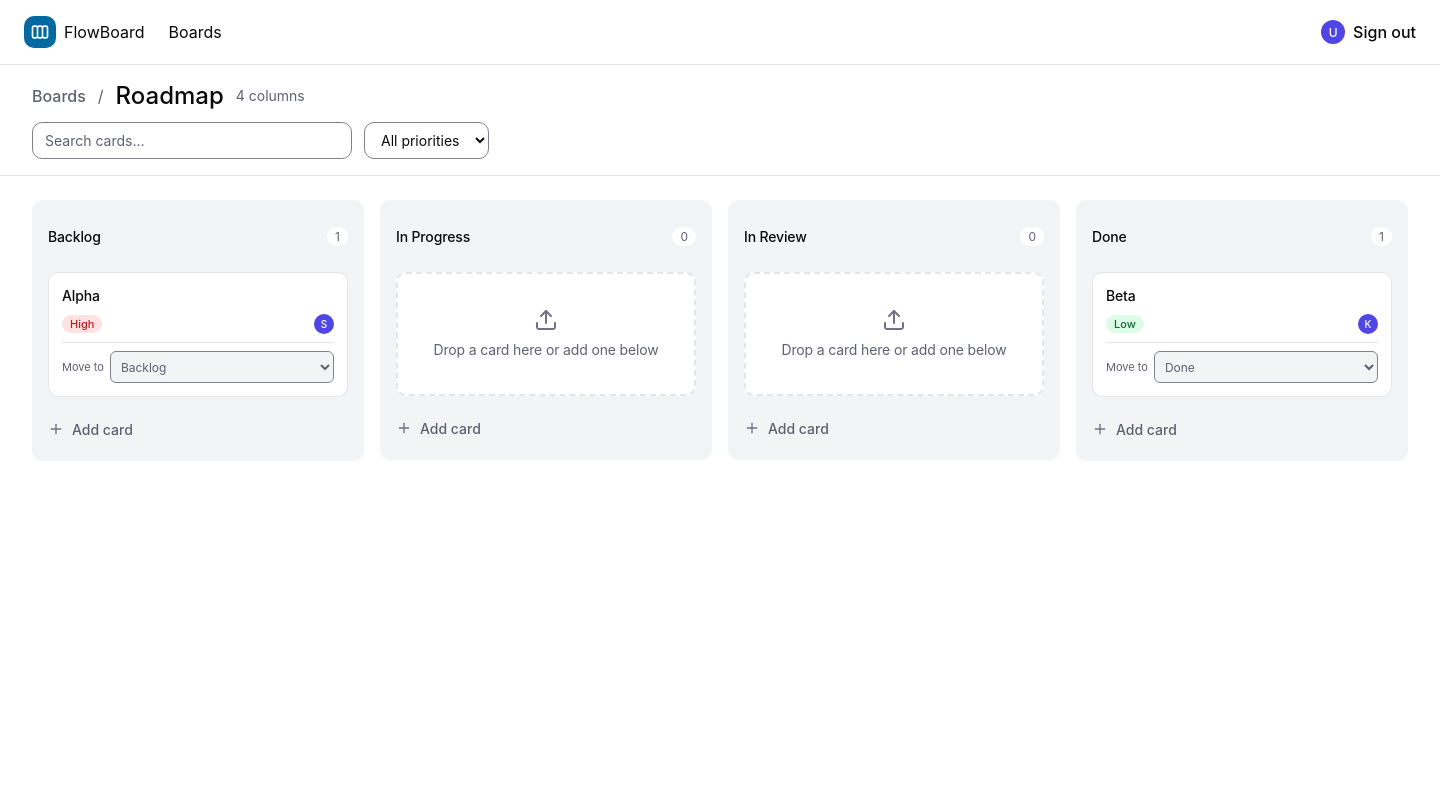
Scenario: BoardPage – creating cards › keeps the modal open and shows an error if saving fails
The image size is (1440, 810).
Check: the text "Alpha" is shown, box [62,287,100,304]
Click the button "Add card" below "Backlog" at [102, 429], box [48,413,348,445]
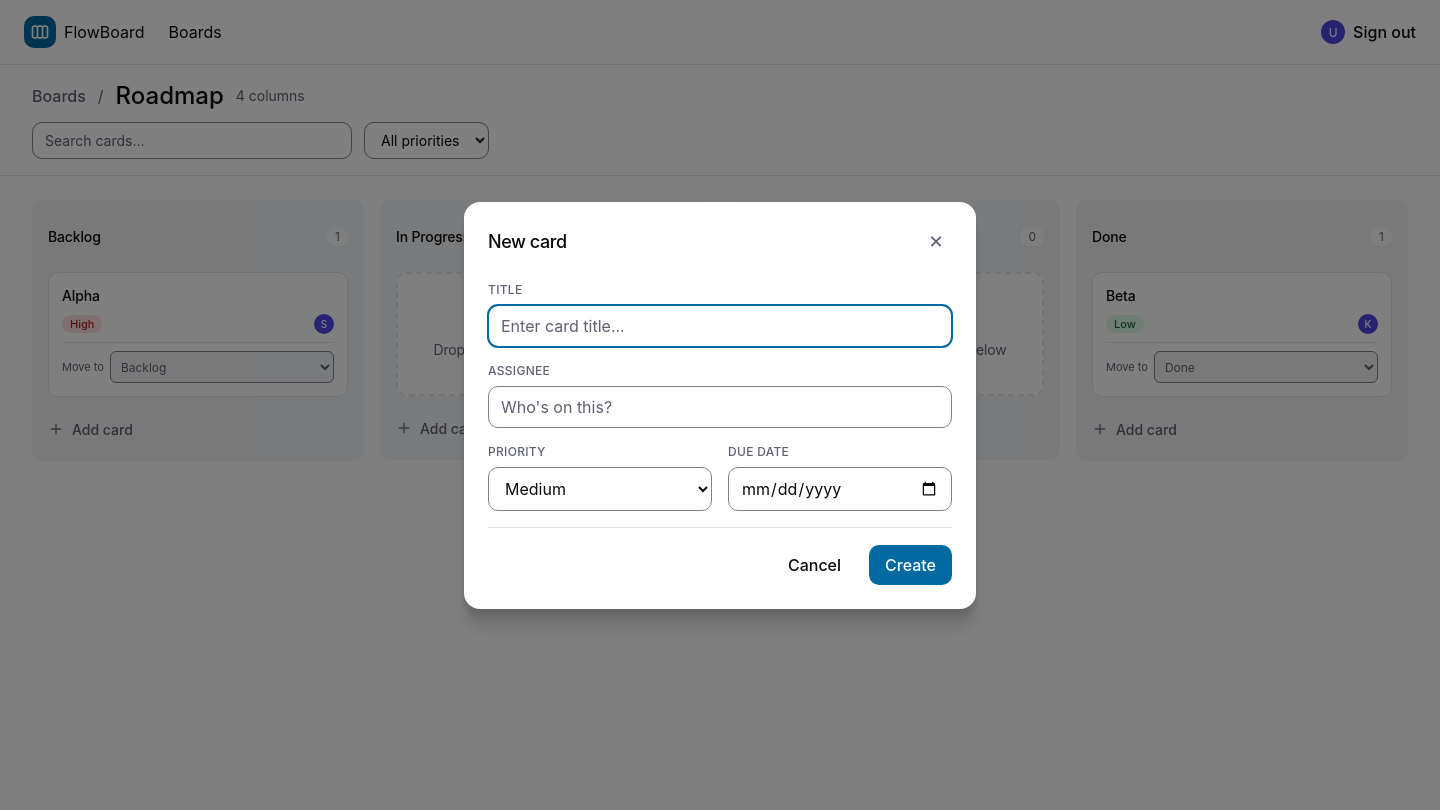
Type "Nope" into the field labelled "Title" at [720, 326], box [488,304,952,346]
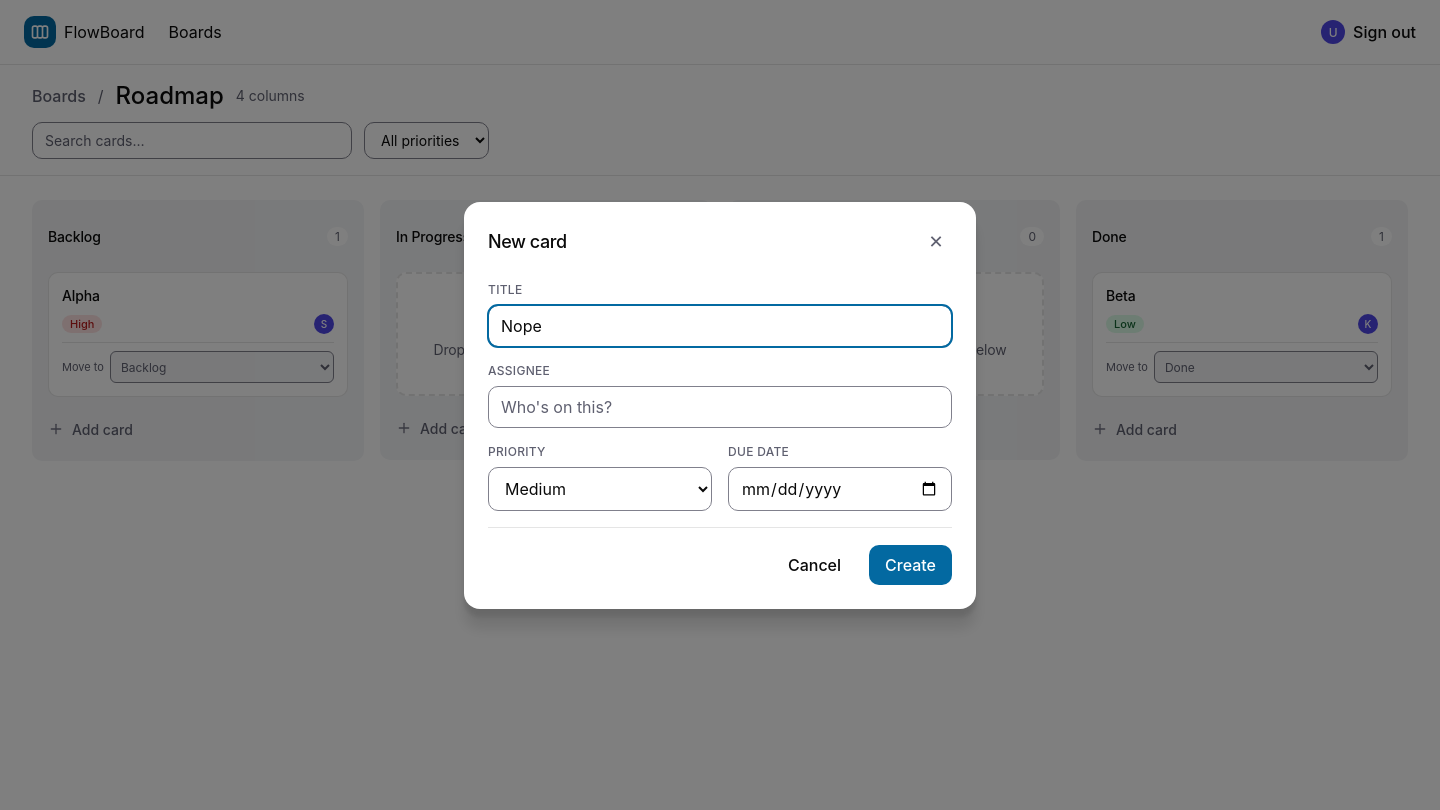
Click the button "Create" at [910, 564], box [869,544,952,584]
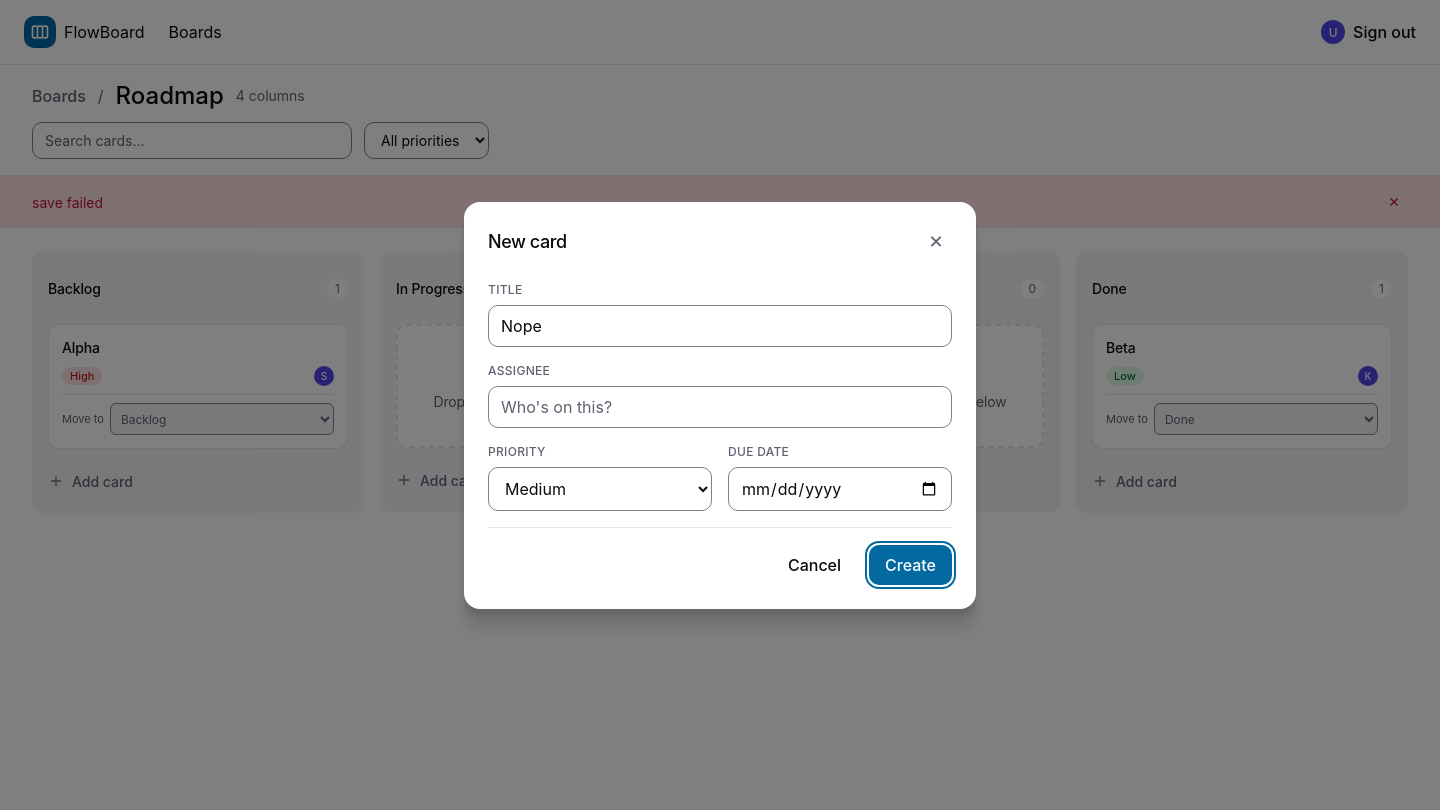
Check: the dialog is shown, box [464,202,976,608]
Check: the message shows "save failed", box [32,194,103,210]
